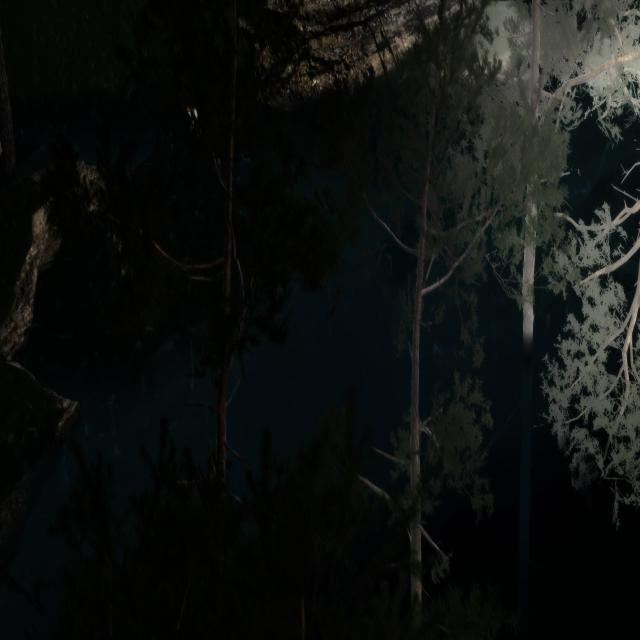Human: (180, 92, 236, 155)
